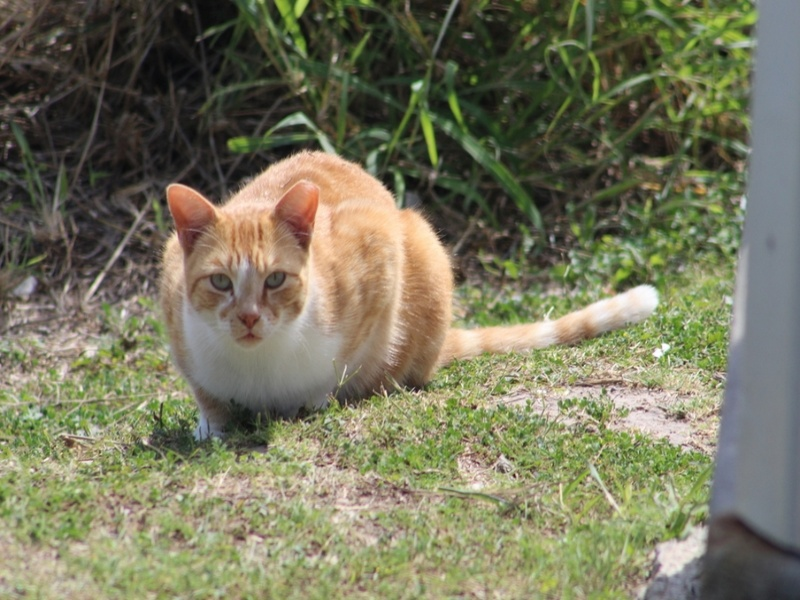cat: (157, 139, 661, 451)
